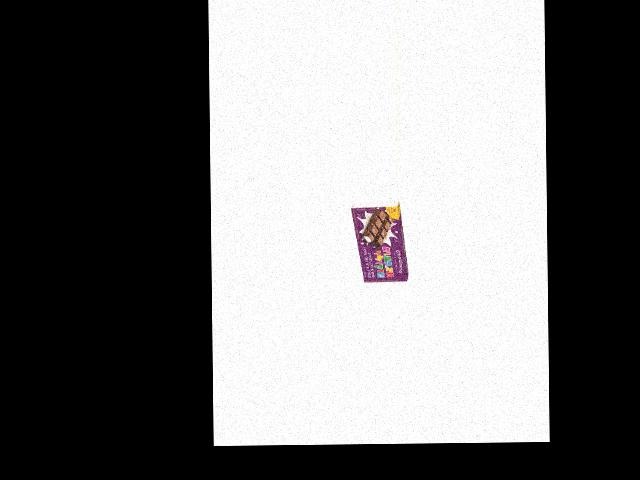chocolate: (354, 200, 408, 288)
